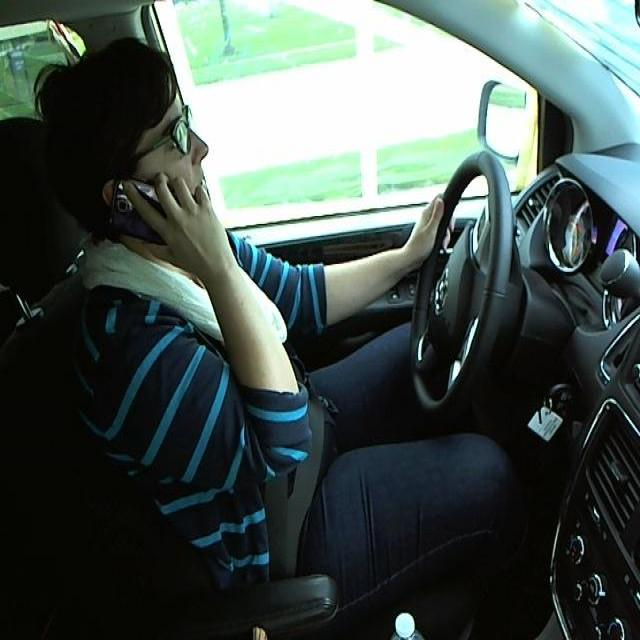using_phone: (30, 19, 260, 333)
